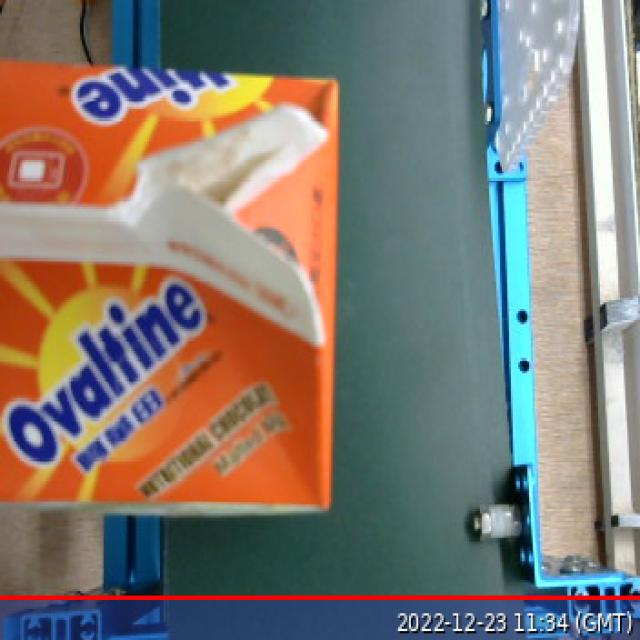non_white_jug: (0, 39, 360, 538)
